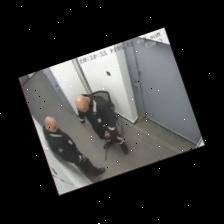person: (42, 117, 104, 176), (75, 95, 127, 154)
